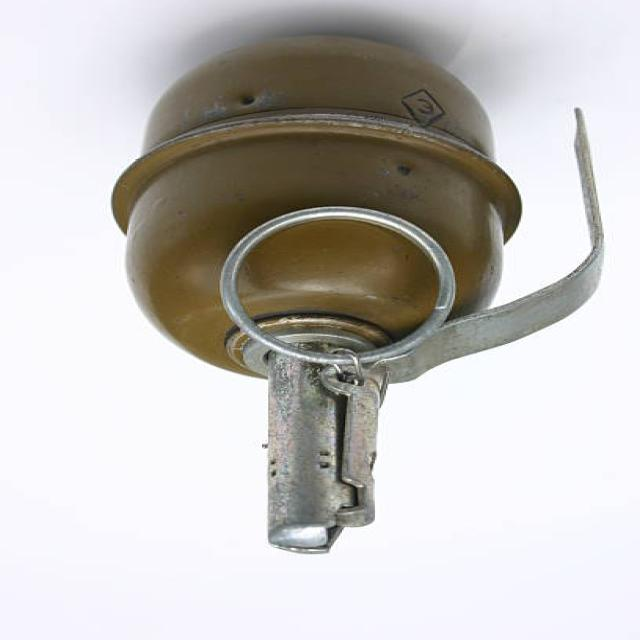grenade: (101, 27, 611, 578)
